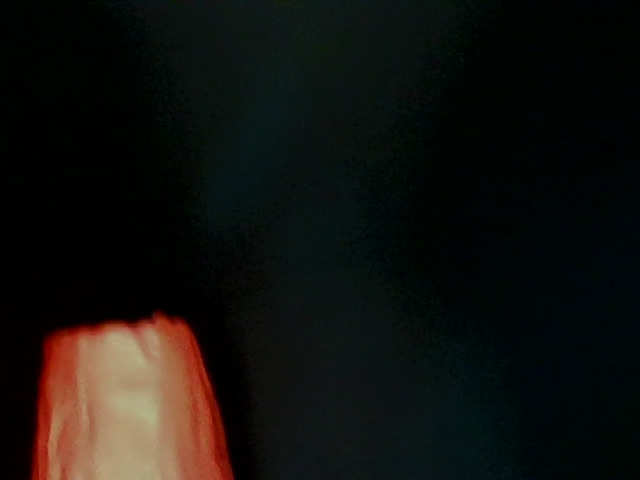CYLJ: (565, 264, 640, 373)
